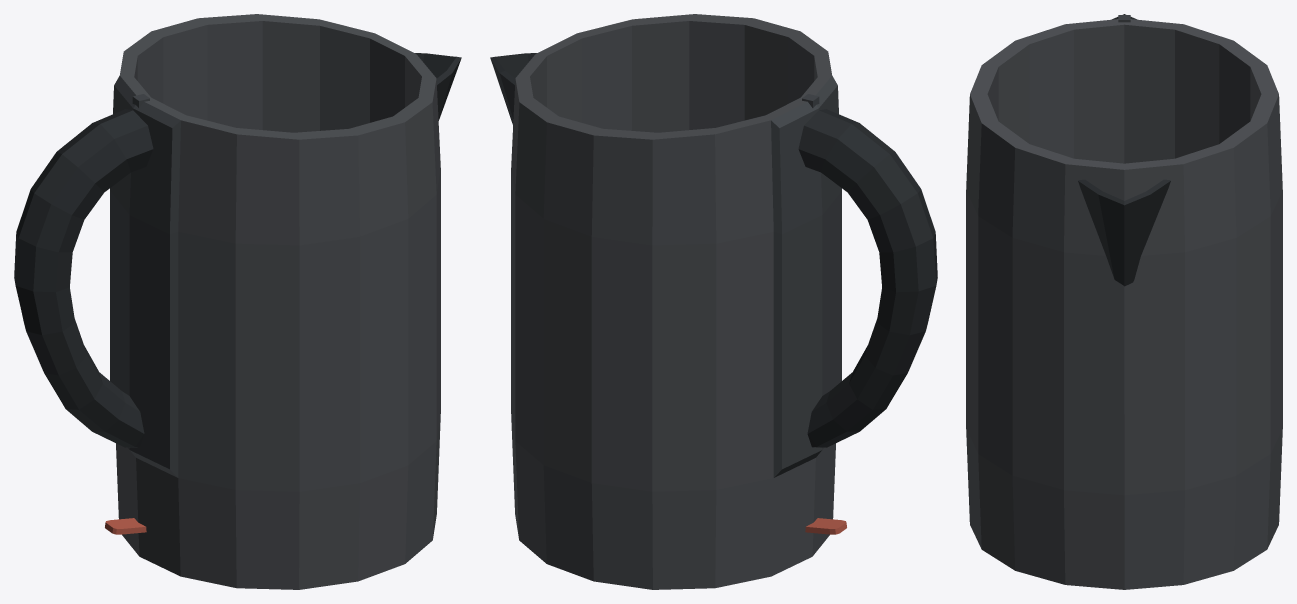
Rendered from Kettle1_C2_01.fbx.
The picture shows the model from 3 angles, left to right: view 1: azimuth 30°, elevation 25°; view 2: azimuth 150°, elevation 25°; view 3: azimuth 270°, elevation 25°; orthographic projection. The views are drawn at different scales.
Parts seen in each view (by area): view 1: Kettle1_C2_01; view 2: Kettle1_C2_01; view 3: Kettle1_C2_01.
Part boxes in pixels (bbox=[...]): Kettle1_C2_01: bbox=[14, 14, 461, 589]; Kettle1_C2_01: bbox=[490, 14, 937, 589]; Kettle1_C2_01: bbox=[966, 14, 1282, 589].
Size of the model in its own units: 41.11 by 40.38 by 26.18.
